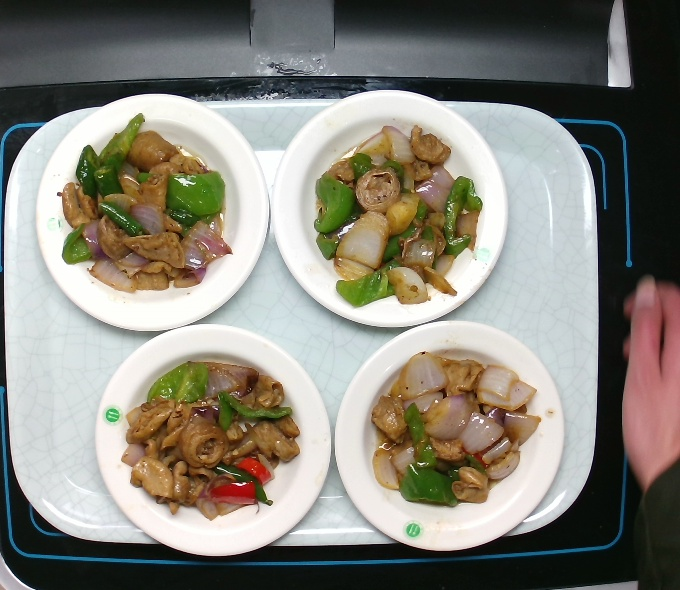wcq-QingJiaoChaoDaChang: (50, 112, 245, 299), (305, 121, 487, 312), (119, 356, 311, 515), (369, 346, 547, 515)
